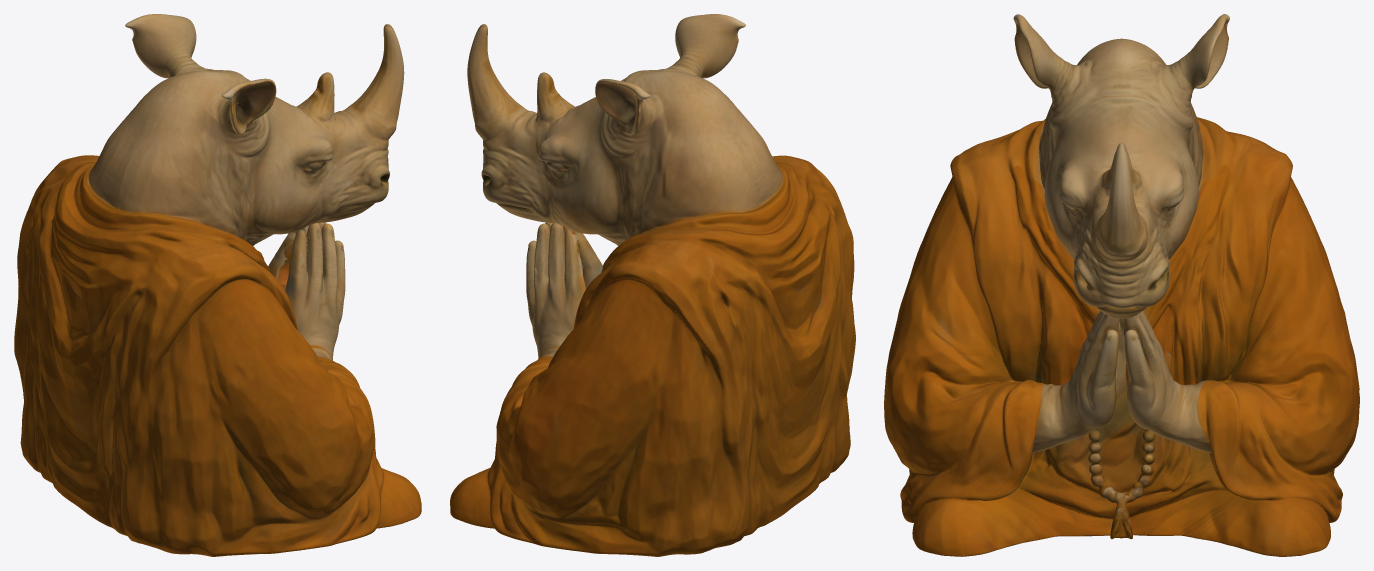
File: rhino.glb
The picture shows the model from 3 angles, left to right: view 1: azimuth 30°, elevation 25°; view 2: azimuth 150°, elevation 25°; view 3: azimuth 270°, elevation 25°; orthographic projection. The views are drawn at different scales.
Visible parts, largest first — view 1: tripo_node_407bc409-b943-4e0e-a026-760328453f11; view 2: tripo_node_407bc409-b943-4e0e-a026-760328453f11; view 3: tripo_node_407bc409-b943-4e0e-a026-760328453f11.
Part boxes in pixels (x1,y1,x2,y2): tripo_node_407bc409-b943-4e0e-a026-760328453f11: [14, 14, 421, 556]; tripo_node_407bc409-b943-4e0e-a026-760328453f11: [450, 14, 855, 556]; tripo_node_407bc409-b943-4e0e-a026-760328453f11: [884, 14, 1359, 556].
Size of the model in its own units: 0.8313 by 1 by 0.9322.
Materials: 1 (1 with a texture image).
